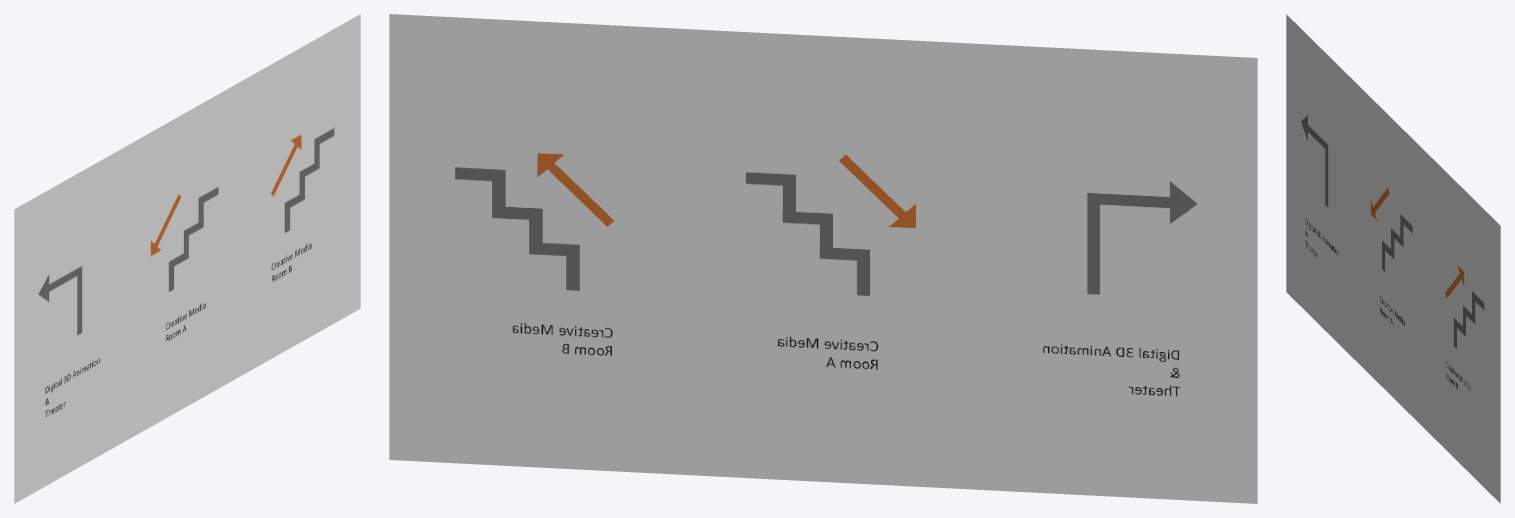
The model's file is sign.fbx.
3 views of the same model, side by side, from view 1: azimuth 30°, elevation 25°; view 2: azimuth 150°, elevation 25°; view 3: azimuth 270°, elevation 25° (orthographic). The views are drawn at different scales.
Visible parts, largest first — view 1: pCube78; view 2: pCube78; view 3: pCube78.
Boxes of the visible parts, bbox=[...] form: pCube78: bbox=[14, 14, 360, 503]; pCube78: bbox=[389, 14, 1257, 503]; pCube78: bbox=[1286, 14, 1500, 503].
Size of the model in its own units: 318 by 194 by 136.
1 material, 1 textured.
